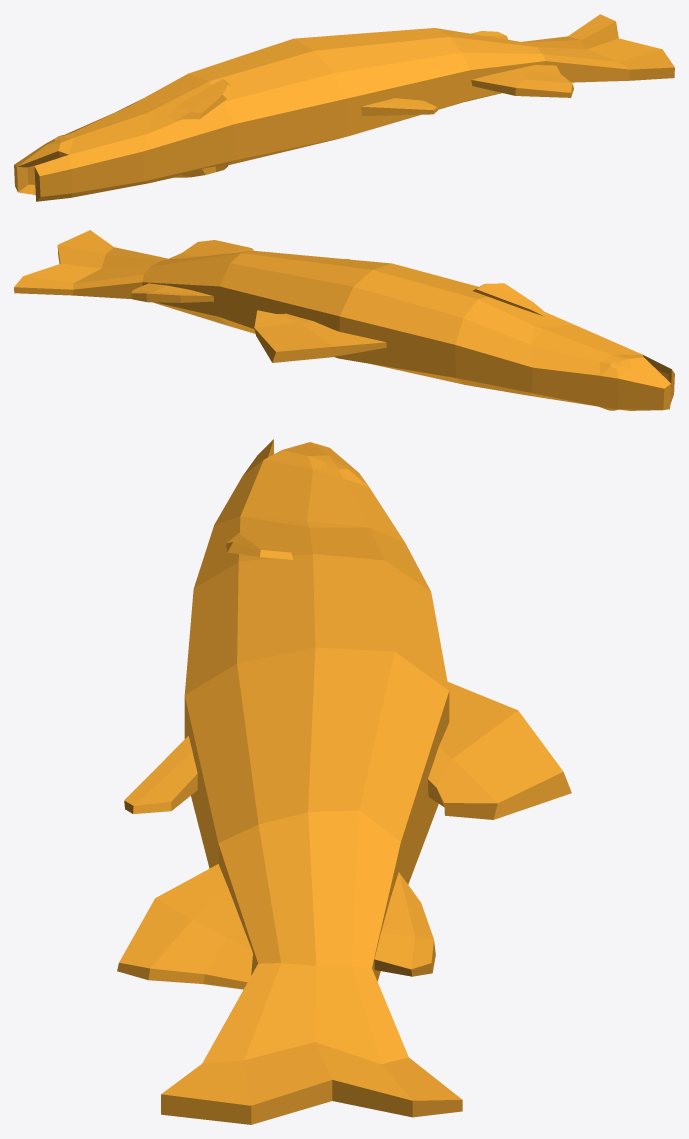
The model's file is SM_Fish_A_Fantasy.fbx.
3 renders of one model, top to bottom at view 1: azimuth 30°, elevation 25°; view 2: azimuth 150°, elevation 25°; view 3: azimuth 270°, elevation 25°, orthographic. The views are drawn at different scales.
Visible parts, largest first — view 1: fish-a-fantasy; view 2: fish-a-fantasy; view 3: fish-a-fantasy.
Boxes of the visible parts, left/top/right/bottom form: fish-a-fantasy: left=14, top=14, right=674, bottom=201; fish-a-fantasy: left=14, top=230, right=674, bottom=410; fish-a-fantasy: left=117, top=439, right=571, bottom=1124.
Bounding box in the file's own units: 0.7185 × 0.089 × 0.2252.
